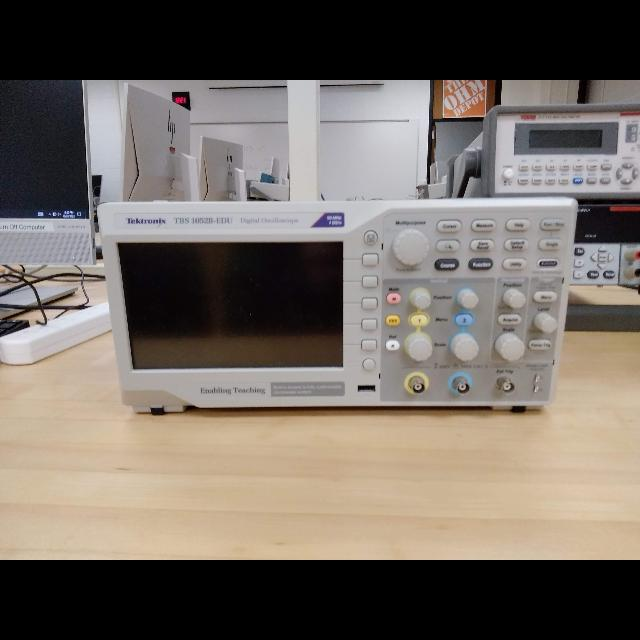Digital-Oscilloscope: (97, 200, 578, 404)
